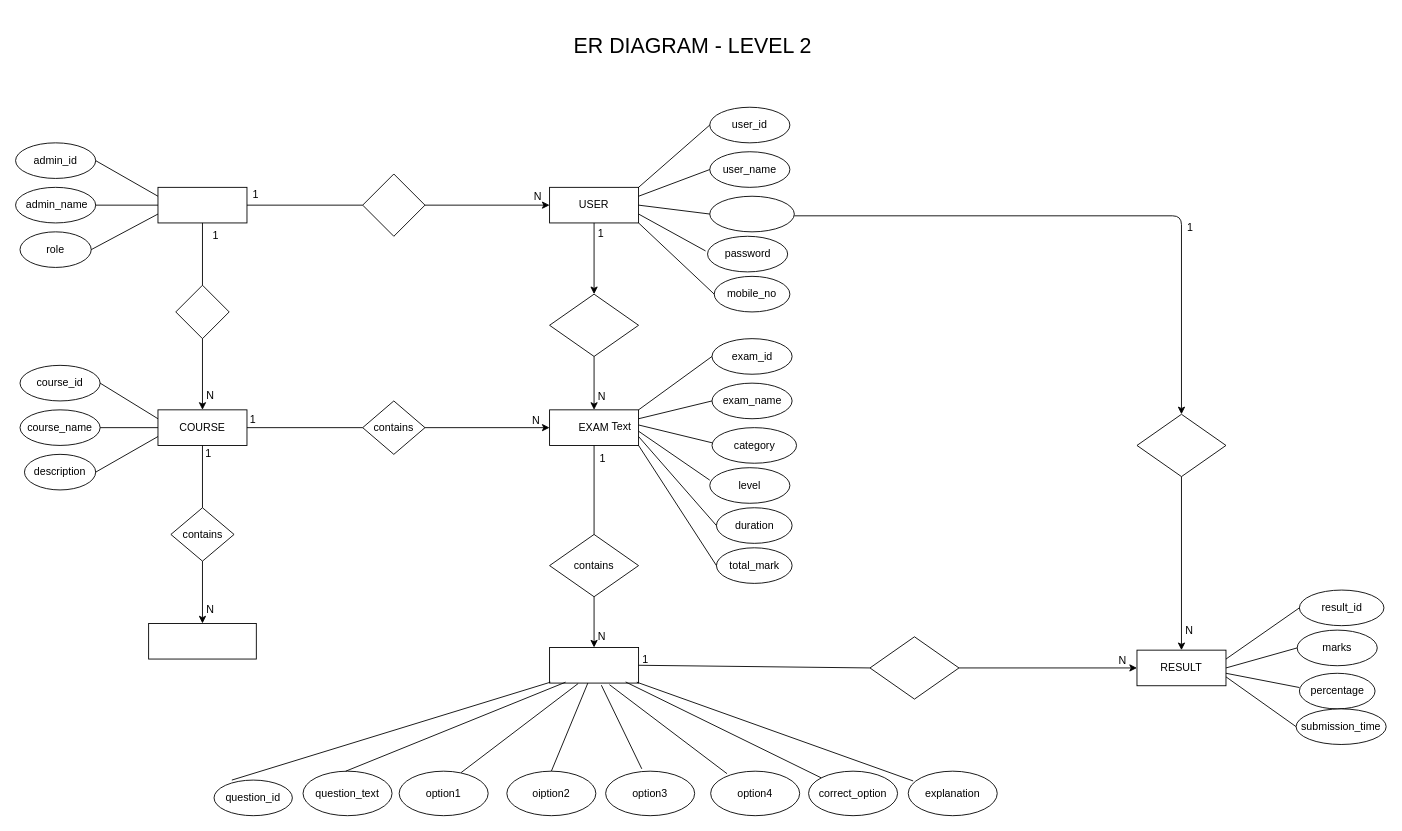
The diagram is 1402 pixels wide and 831 high, and some of its shapes have lost their labels. The shapes that lost their labels are listed below. From the top down, each one's centre as x and y in pixels, then its label:
At point (202, 204): "ADMIN".
At point (393, 204): "manaes".
At point (751, 213): "email".
At point (202, 311): "manages".
At point (594, 324): "attempts/ select".
At point (1181, 445): "gets".
At point (202, 641): "COURSE_CONTENT".
At point (594, 665): "QUESTION".
At point (914, 667): "produces".
